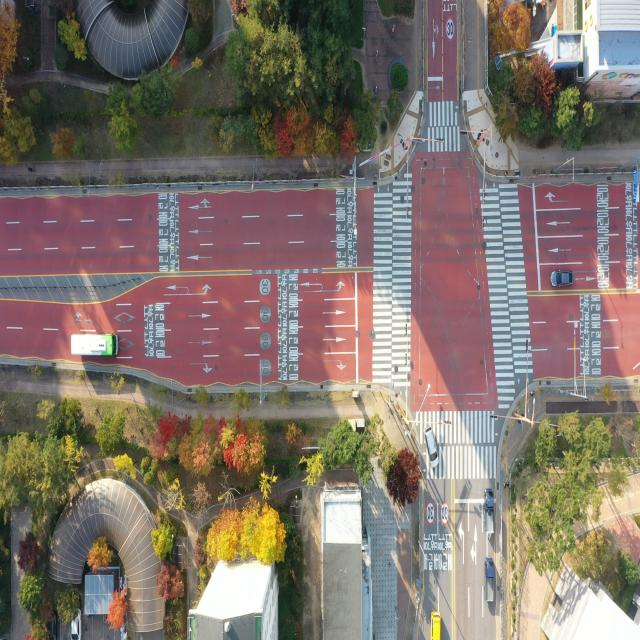car: (426, 428, 438, 468), (552, 271, 574, 288), (430, 612, 441, 640)
large_bus: (70, 332, 120, 358)
small_truck: (483, 485, 495, 534), (484, 558, 496, 604)
